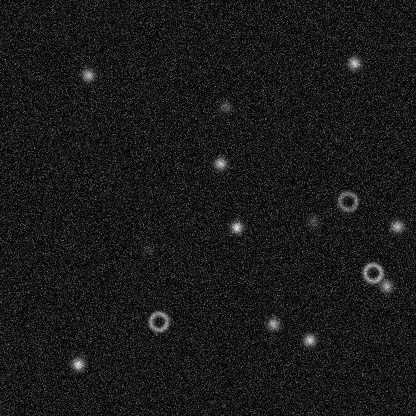Ring: (335, 189, 359, 213), (360, 260, 384, 284), (146, 309, 170, 333)
Spot: (265, 315, 281, 331), (346, 54, 362, 70), (378, 277, 394, 293), (305, 212, 321, 228), (80, 67, 96, 83), (139, 241, 155, 257), (69, 356, 85, 372), (301, 331, 317, 347), (228, 219, 244, 235), (389, 218, 405, 234), (217, 98, 233, 114), (212, 155, 228, 171)
